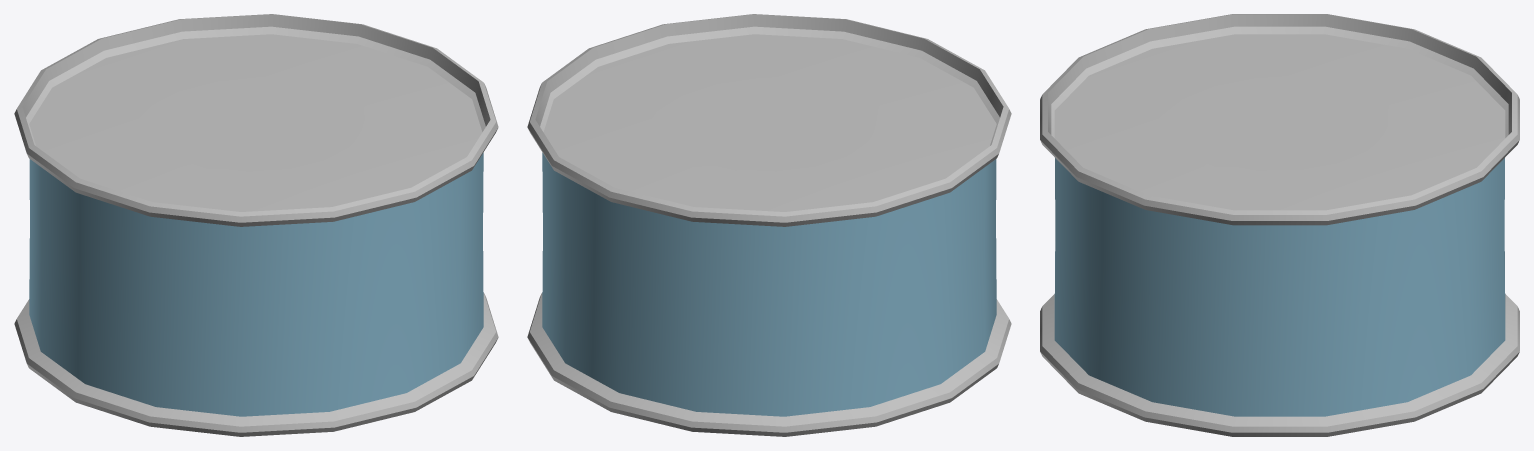
File: Props_Tuna1.fbx
3 renders of one model, left to right at view 1: azimuth 30°, elevation 25°; view 2: azimuth 150°, elevation 25°; view 3: azimuth 270°, elevation 25°, orthographic.
Parts seen in each view (by area): view 1: Props_Tuna1; view 2: Props_Tuna1; view 3: Props_Tuna1.
Part boxes in pixels (x1,y1,x2,y2): Props_Tuna1: (14,14,498,436); Props_Tuna1: (527,14,1011,436); Props_Tuna1: (1040,14,1519,436).
Size of the model in its own units: 19.6 by 10.2 by 19.6.
